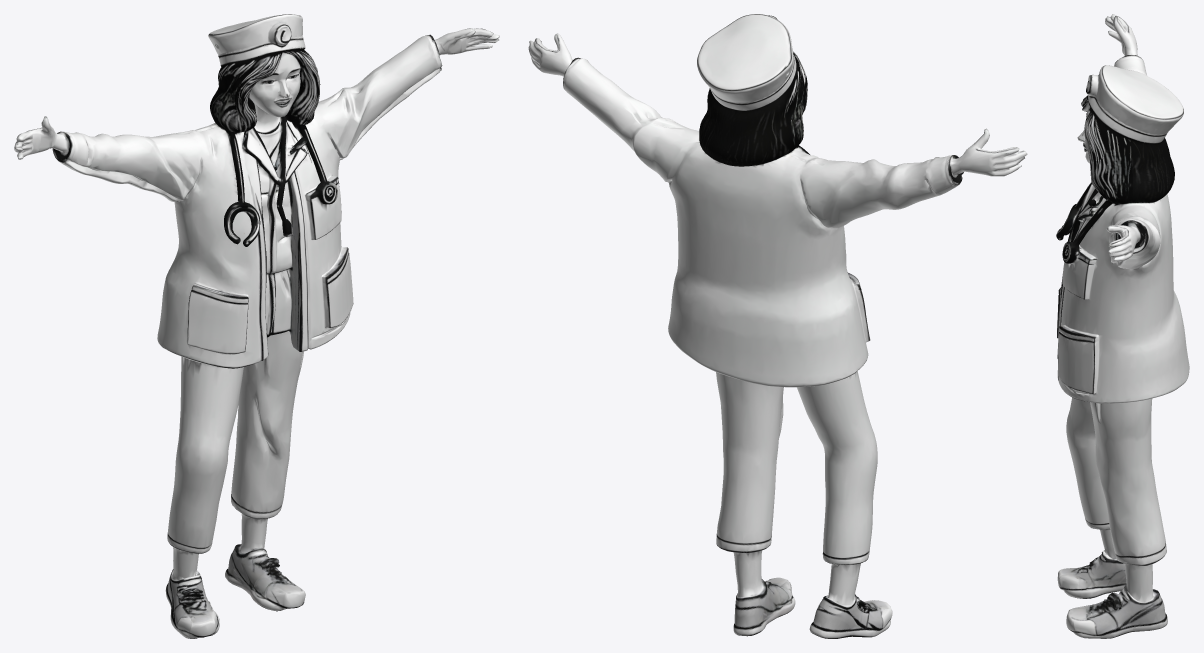
Rendered from marta_vance.fbx.
3 views of the same model, side by side, from view 1: azimuth 30°, elevation 25°; view 2: azimuth 150°, elevation 25°; view 3: azimuth 270°, elevation 25° (orthographic). The views are drawn at different scales.
Visible parts, largest first — view 1: marta_vance; view 2: marta_vance; view 3: marta_vance.
Part boxes in pixels (x1,y1,x2,y2): marta_vance: (14, 14, 499, 638); marta_vance: (528, 14, 1027, 638); marta_vance: (1056, 14, 1189, 638).
Size of the model in its own units: 1.52 by 1.75 by 0.3755.
Materials: 1 (1 with a texture image).
